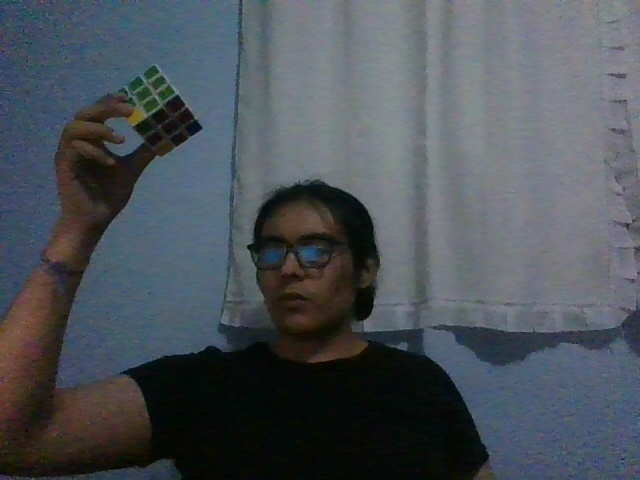rubik: (115, 63, 204, 158)
